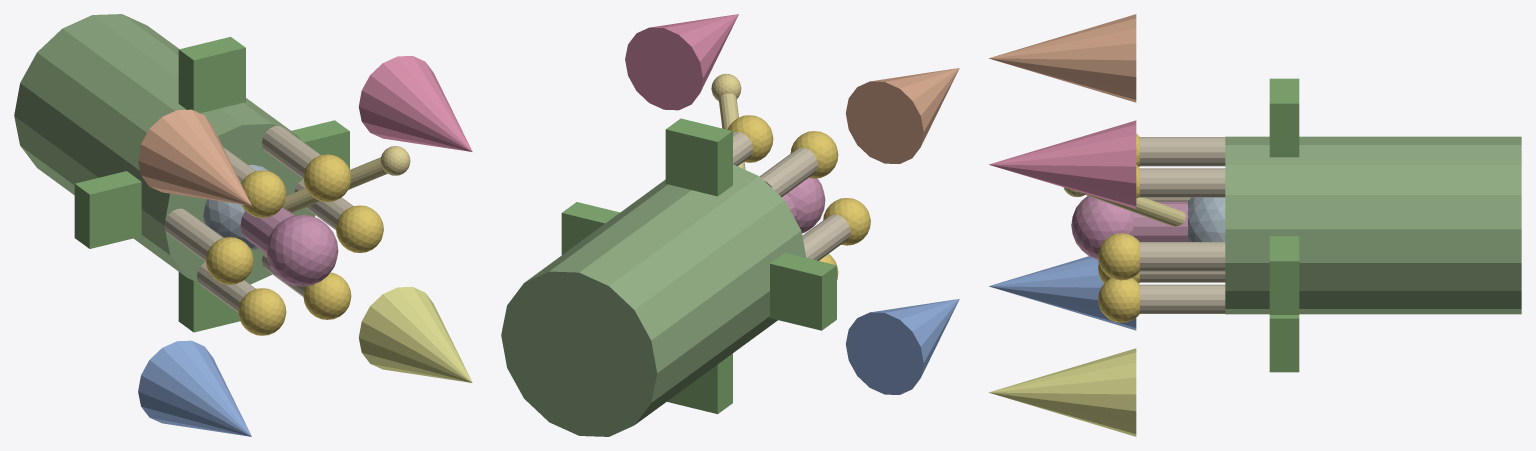
Rendered from flower_reproduction.glb.
The picture shows the model from 3 angles, left to right: view 1: azimuth 30°, elevation 25°; view 2: azimuth 150°, elevation 25°; view 3: azimuth 270°, elevation 25°; orthographic projection.
Parts seen in each view (by area): view 1: world; view 2: world; view 3: world.
Boxes of the visible parts, <box> form: world: <box>14,14,472,436</box>; world: <box>501,14,959,436</box>; world: <box>989,14,1521,436</box>.
Size of the model in its own units: 1.15 by 1.15 by 1.8.
